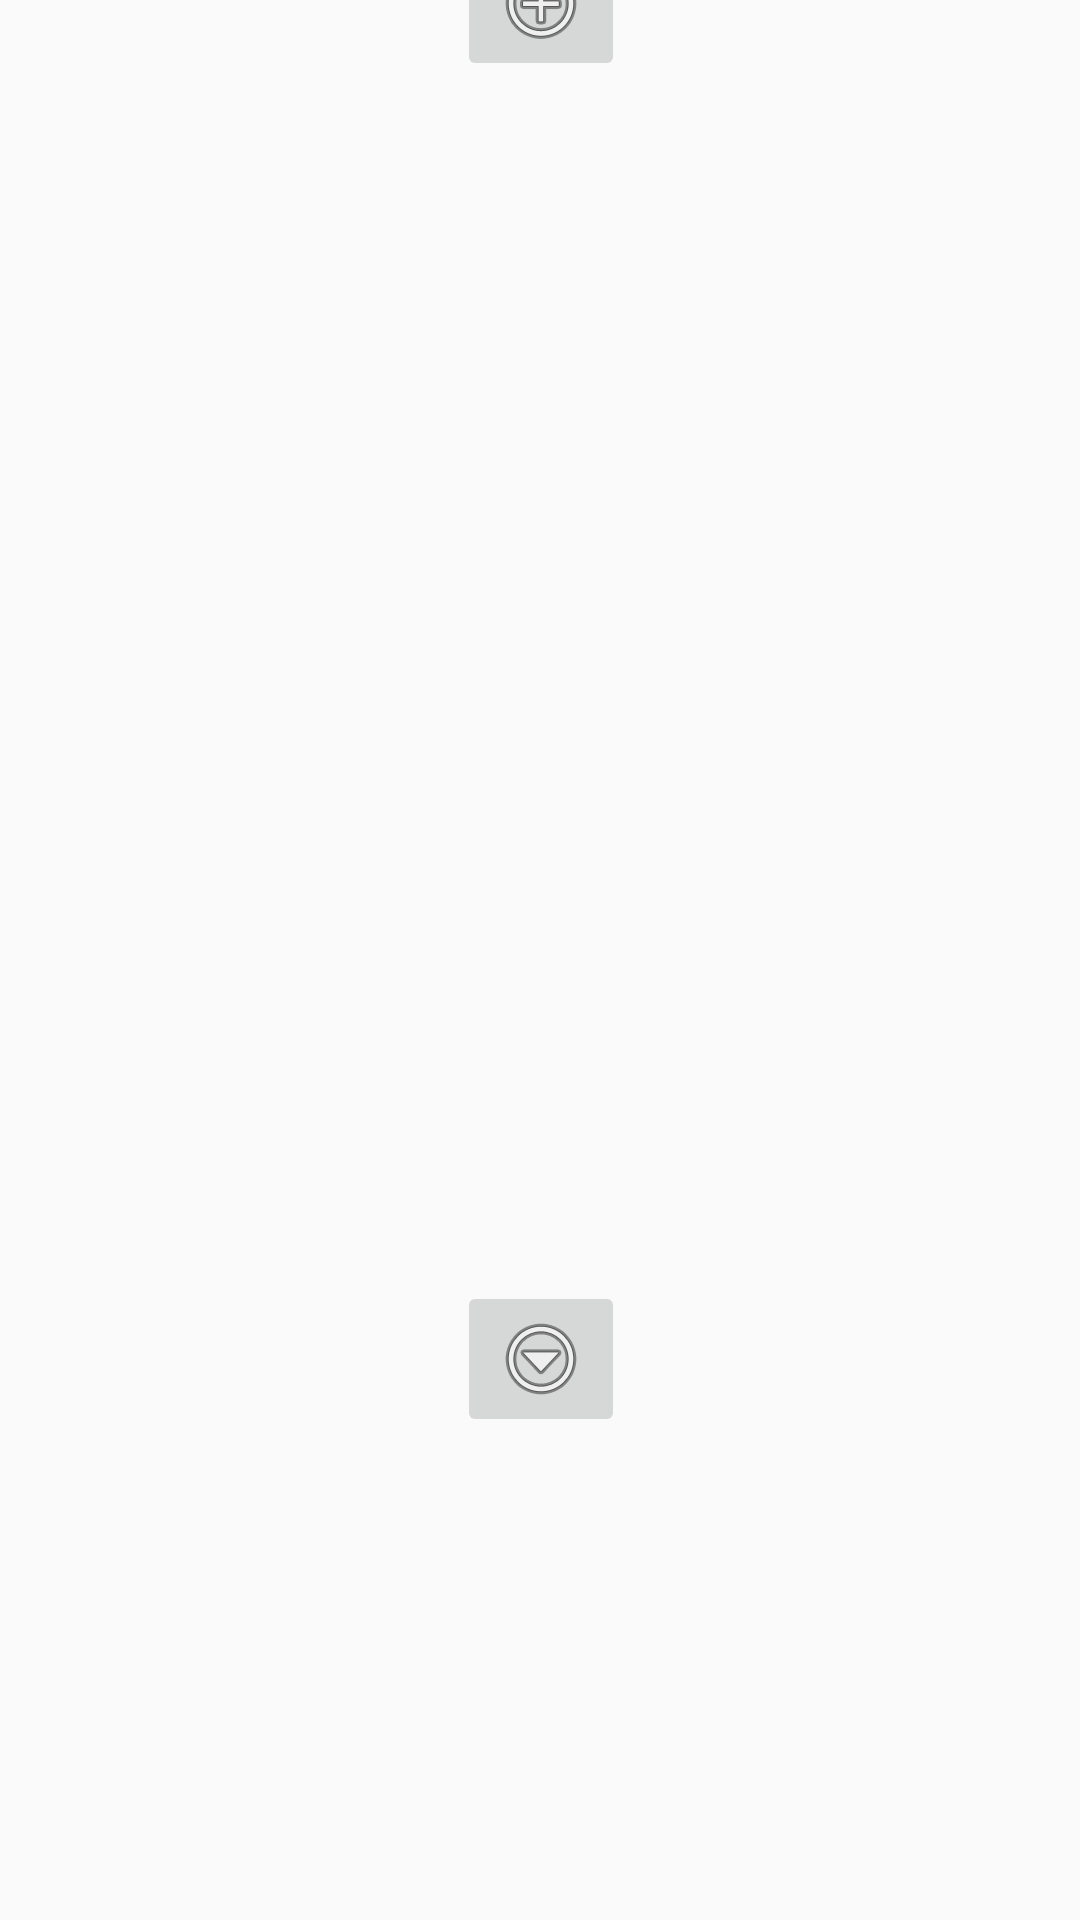

Icon bounding boxes for this 1080*1920 phone screenshot, format (x1, y1, x2, y2):
more: (469, 1299, 613, 1419)
